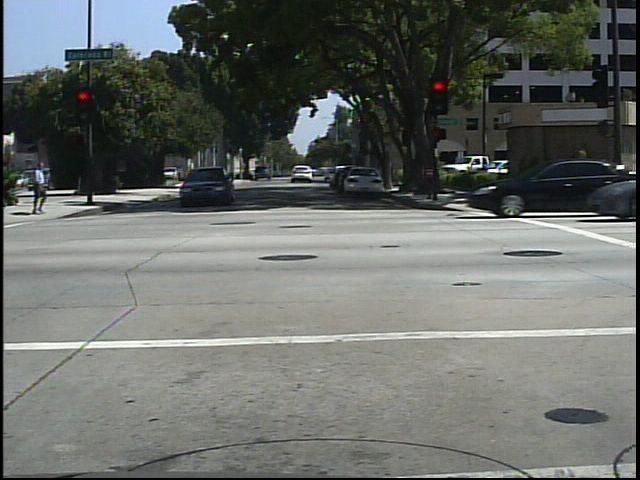person: (566, 143, 597, 209), (27, 157, 50, 219)
